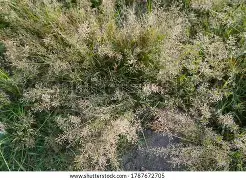weed: (0, 0, 245, 170)
